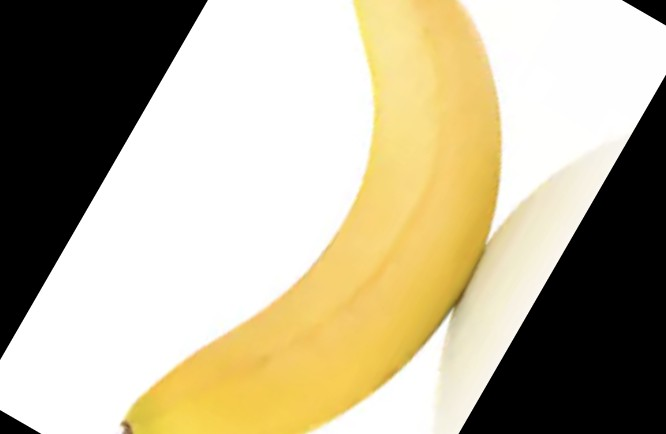fresh_banana: (119, 1, 502, 434)
